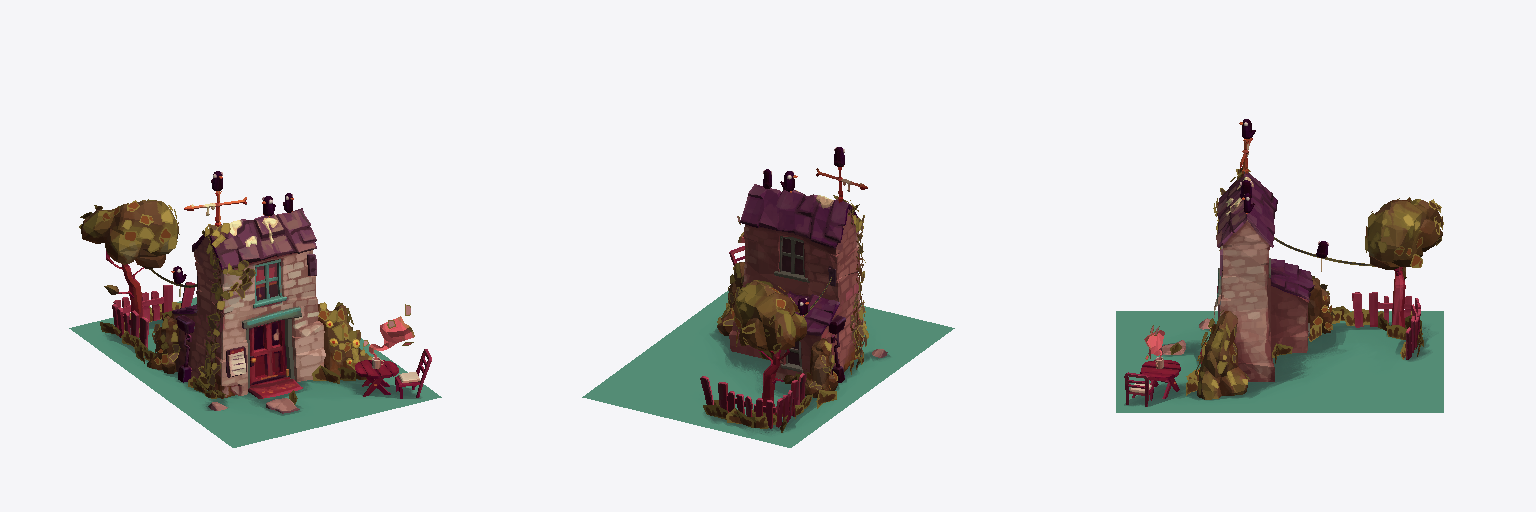
The picture shows the model from 3 angles: view 1: azimuth 30°, elevation 25°; view 2: azimuth 150°, elevation 25°; view 3: azimuth 270°, elevation 25°; orthographic projection.
Parts seen in each view (by area): view 1: polySurface55_blinn2_0, polySurface55_blinn4_0, polySurface55_blinn3_0; view 2: polySurface55_blinn2_0, polySurface55_blinn4_0, polySurface55_blinn3_0; view 3: polySurface55_blinn2_0, polySurface55_blinn4_0, polySurface55_blinn3_0.
Part boxes in pixels (left/top/right/bottom): polySurface55_blinn2_0: left=81, top=171, right=431, bottom=413; polySurface55_blinn4_0: left=69, top=297, right=441, bottom=447; polySurface55_blinn3_0: left=79, top=199, right=414, bottom=404; polySurface55_blinn2_0: left=700, top=147, right=887, bottom=428; polySurface55_blinn4_0: left=582, top=291, right=954, bottom=447; polySurface55_blinn3_0: left=703, top=195, right=868, bottom=432; polySurface55_blinn2_0: left=1124, top=119, right=1442, bottom=406; polySurface55_blinn4_0: left=1116, top=311, right=1443, bottom=412; polySurface55_blinn3_0: left=1144, top=167, right=1443, bottom=395.
Size of the model in its own units: 2.32 by 2.32 by 3.14.
3 materials, 3 textured.